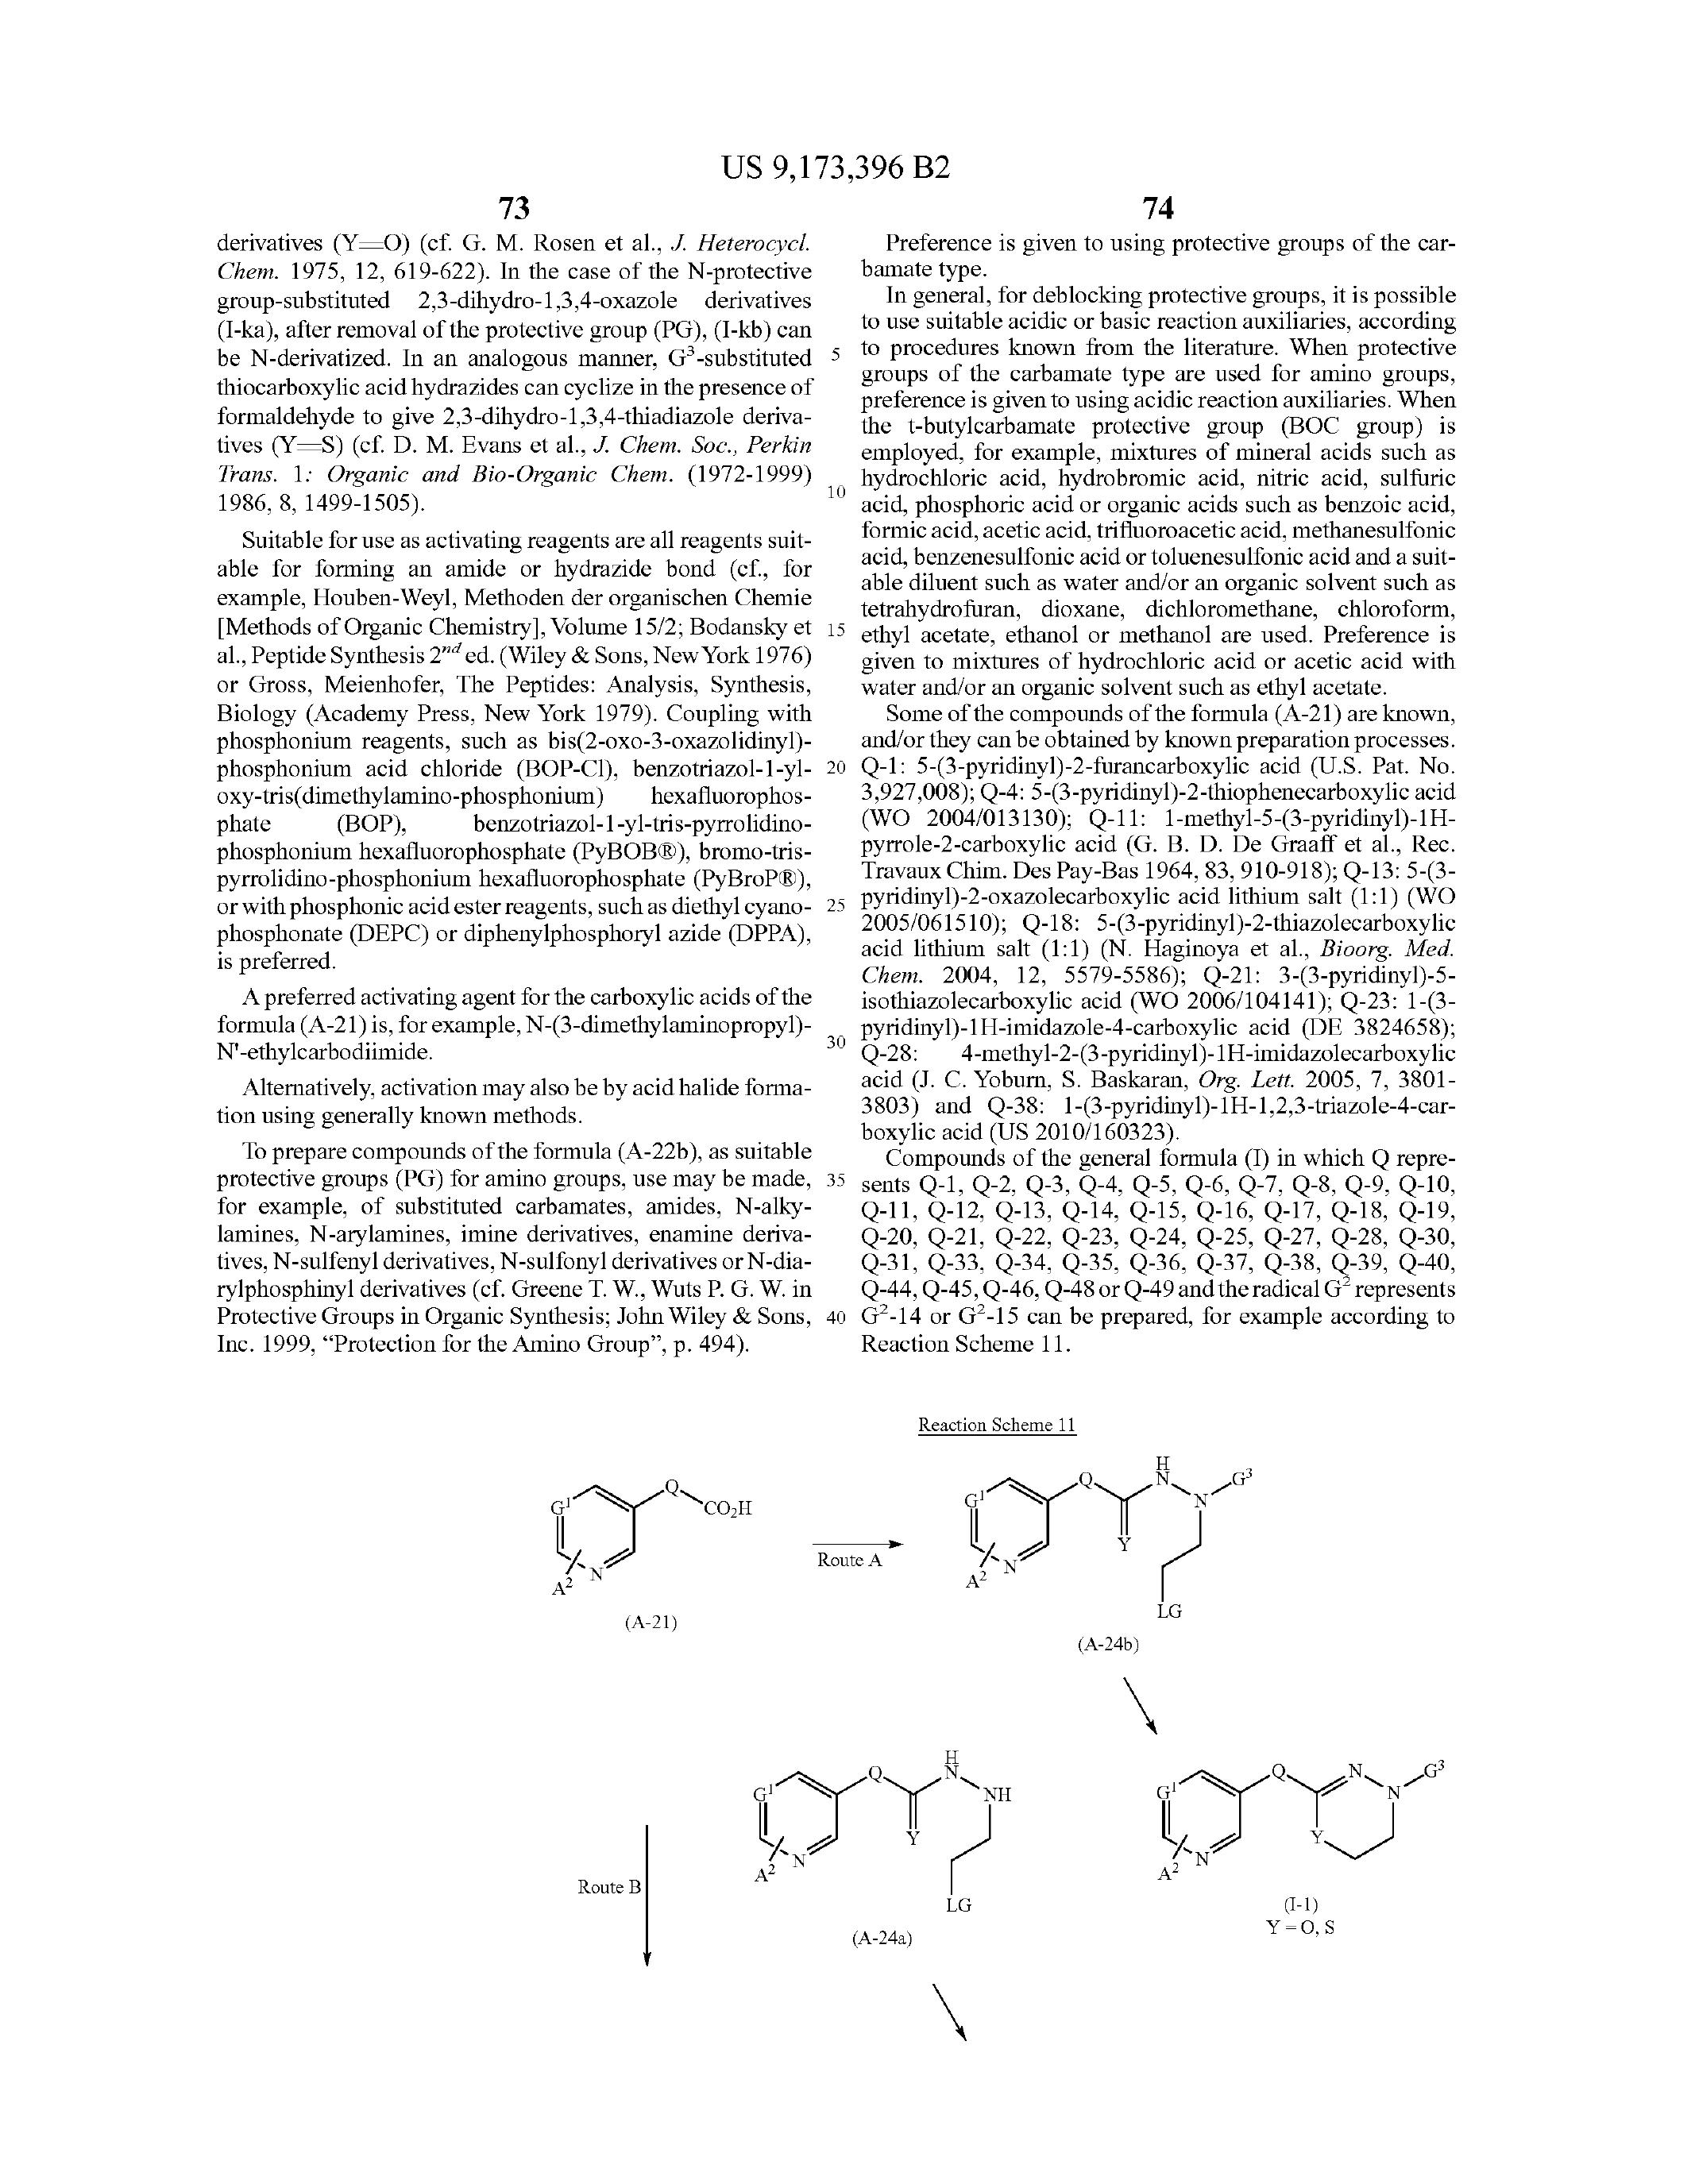reactions: (420, 1381, 1574, 2012)
